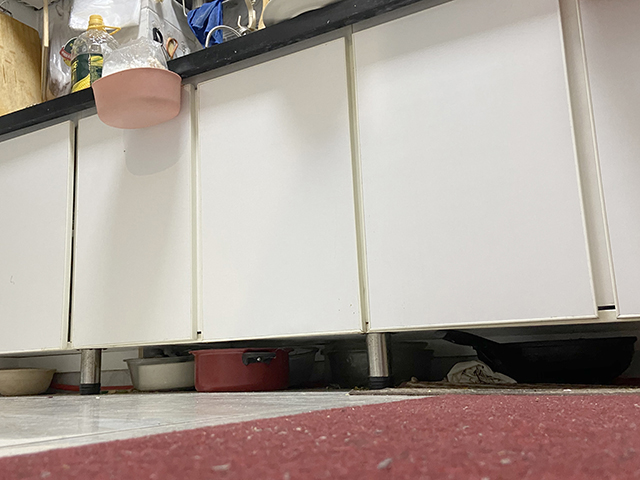cabinet: (1, 1, 639, 396)
carpet: (2, 394, 640, 480), (347, 383, 640, 397)
